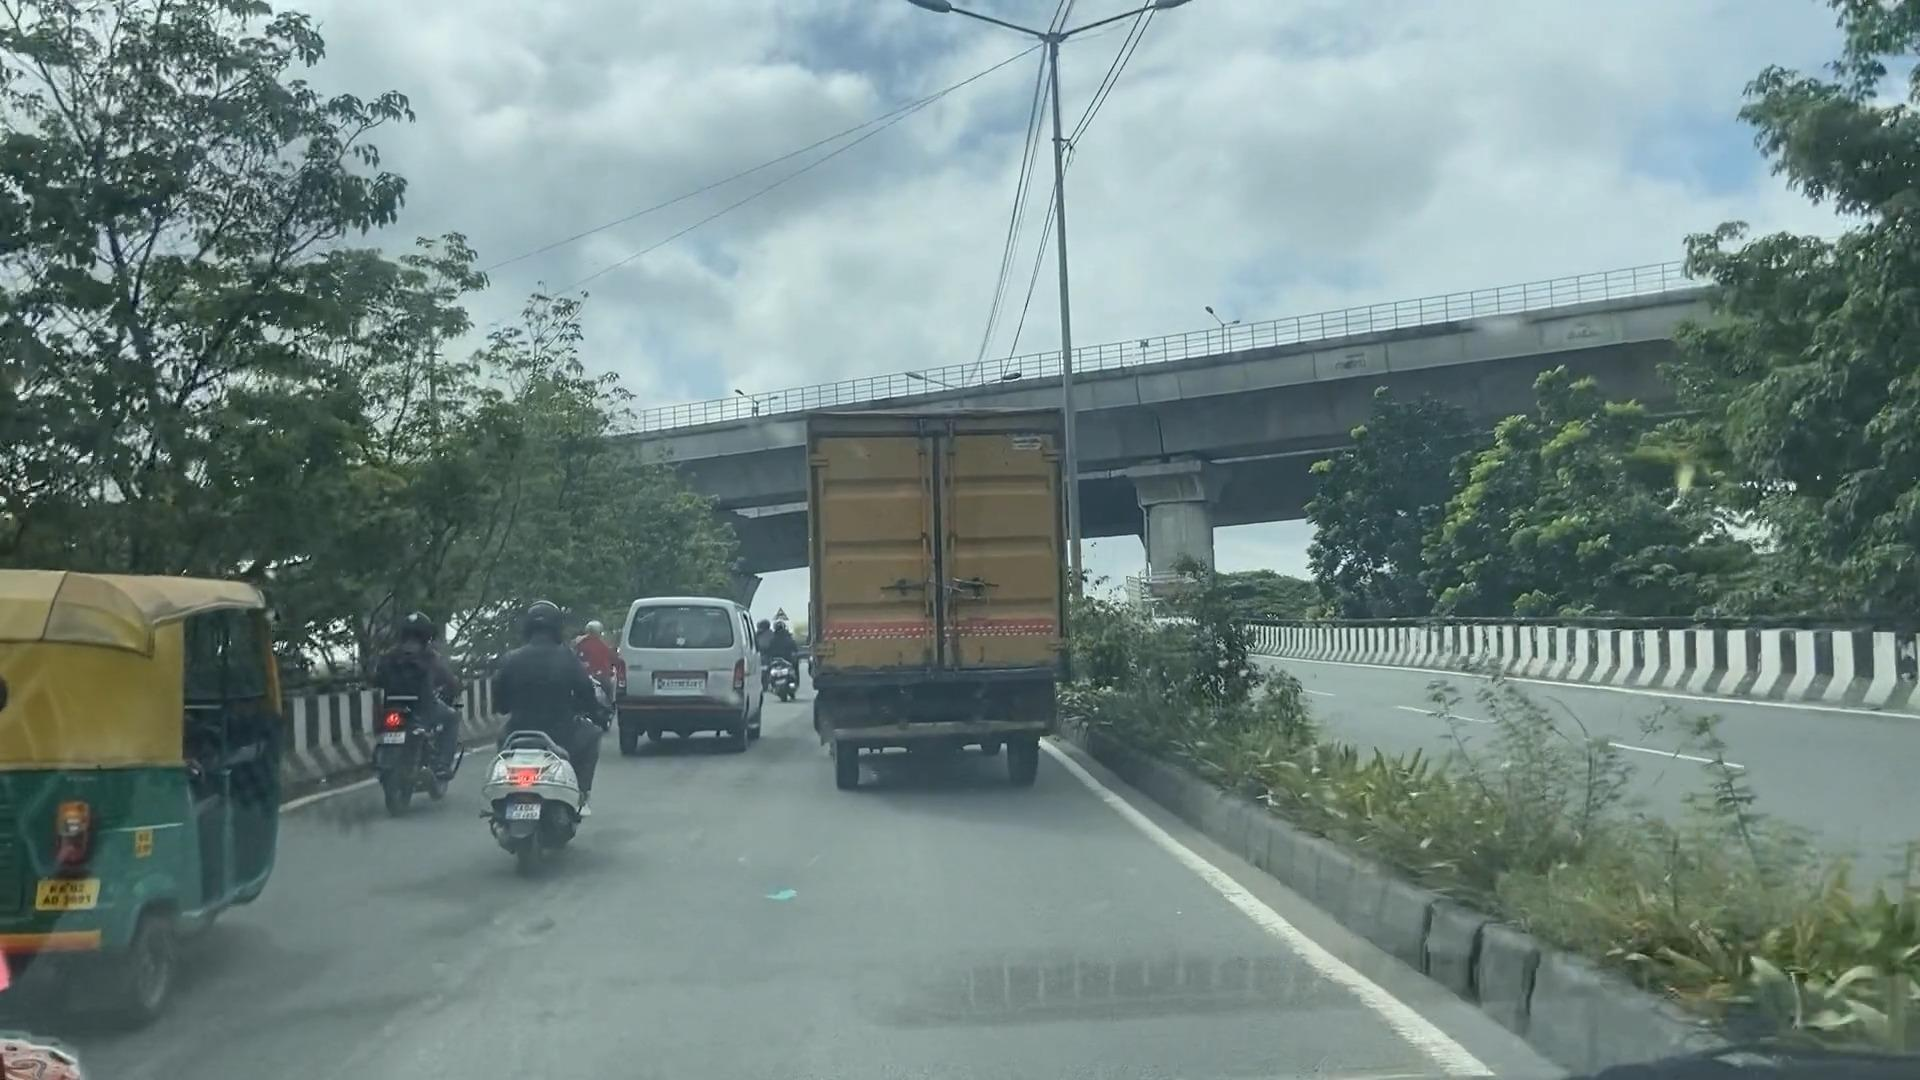HMV: (803, 404, 1068, 791)
LMV: (8, 583, 293, 1021), (493, 611, 613, 872), (367, 613, 462, 798), (617, 607, 753, 732)
